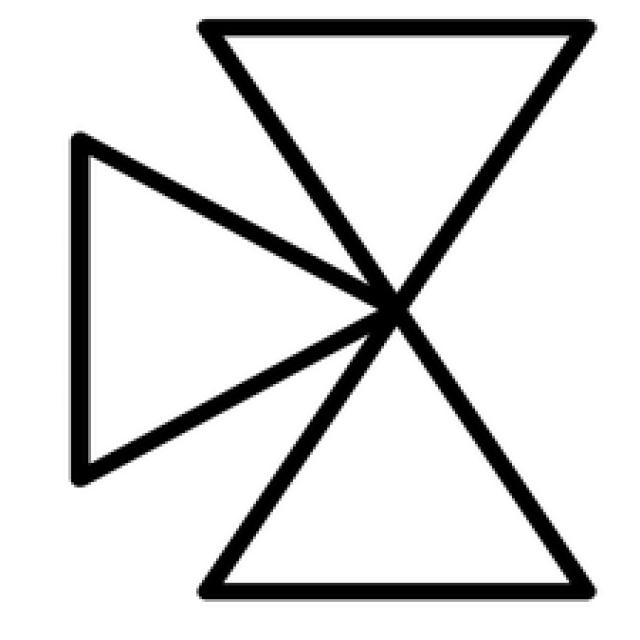3-way Valve: (197, 28, 591, 591), (76, 139, 390, 480)
